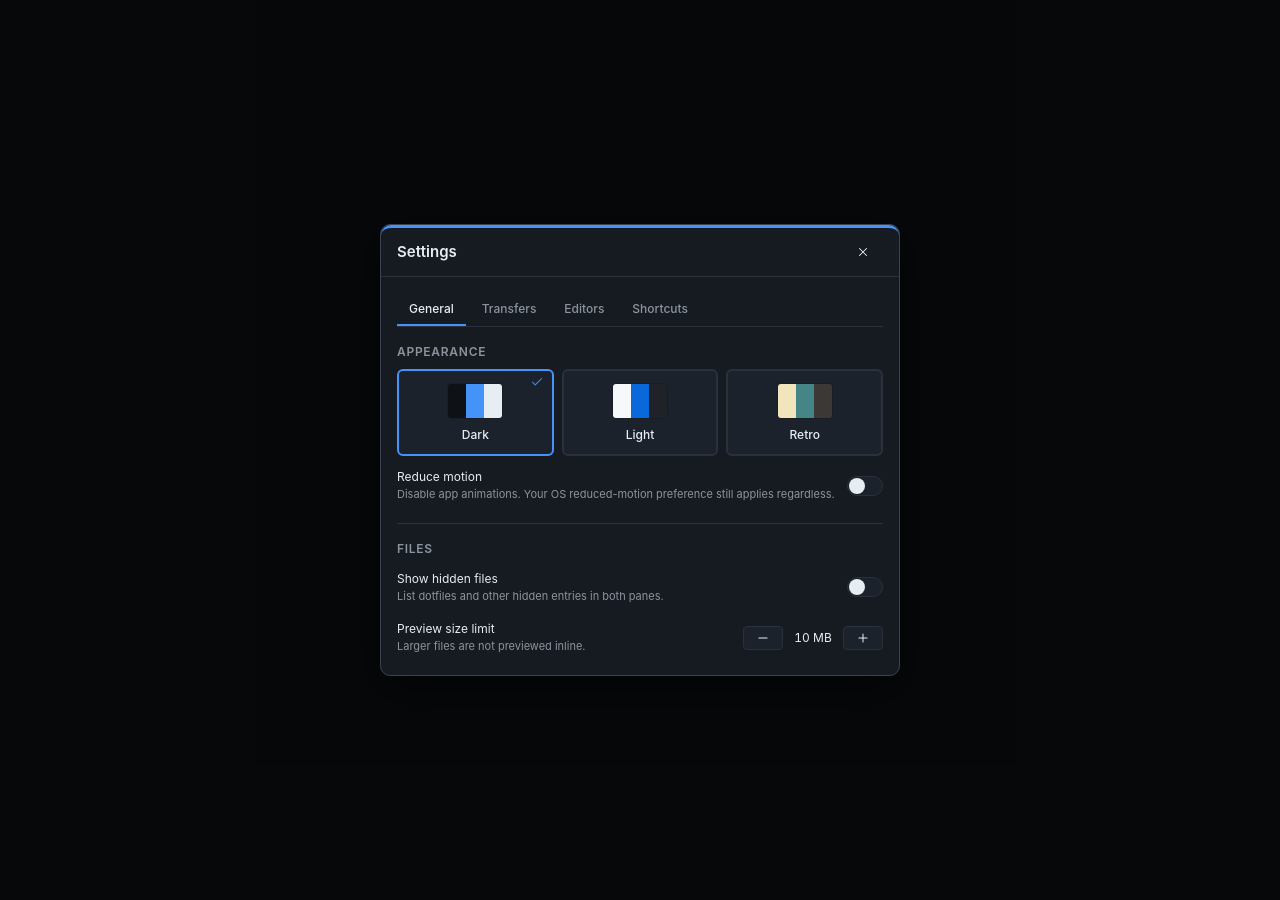
Test: SettingsModal — Transfers tab › loads and steps parallel transfers up to 16
Click the tab "Transfers".
click(509, 310)  # box 470,293 -> 548,326
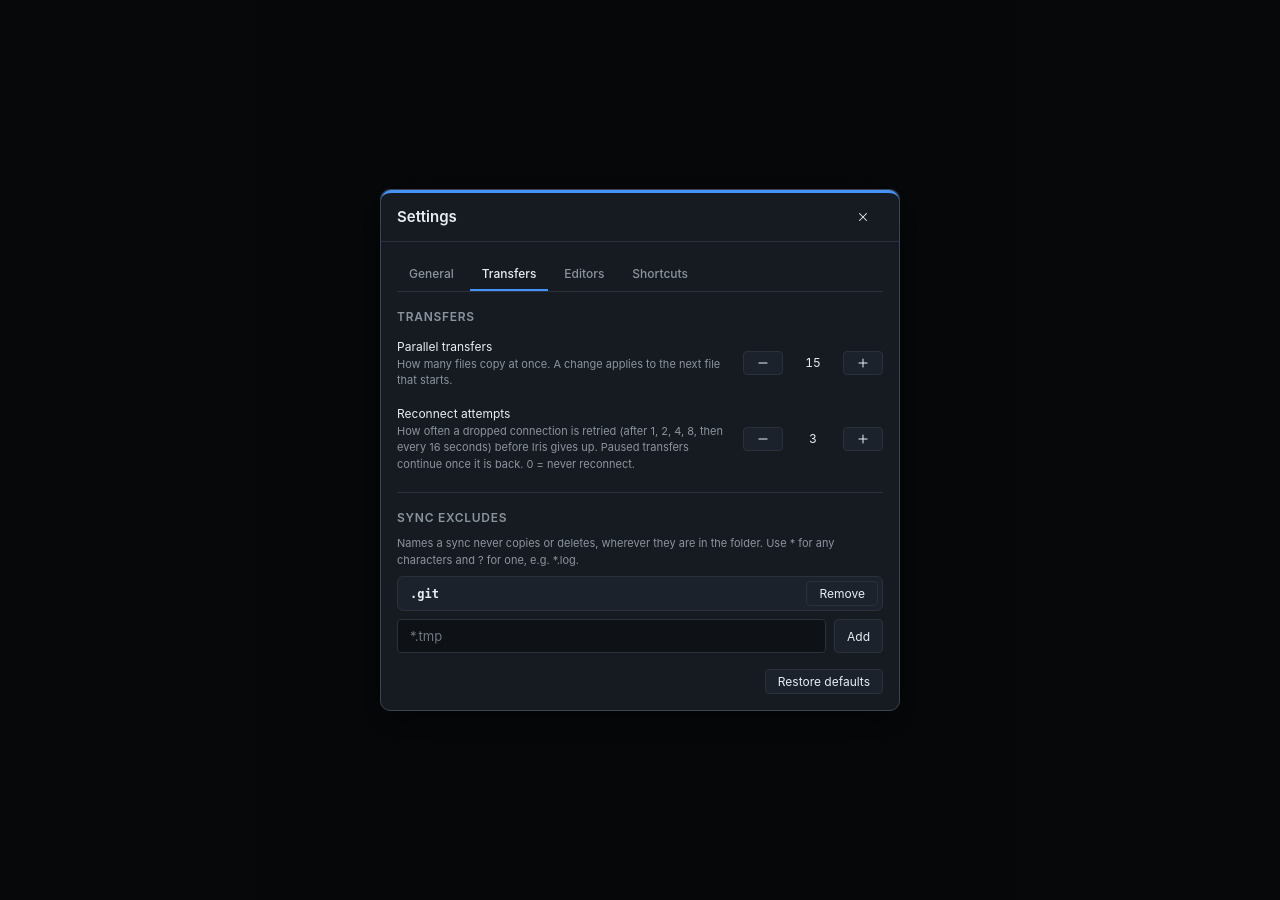
Check: the text named "Parallel transfers" reads "15", box 805,355 -> 821,370
Click the button named "Increase parallel transfers".
click(863, 363)  # box 843,351 -> 883,375
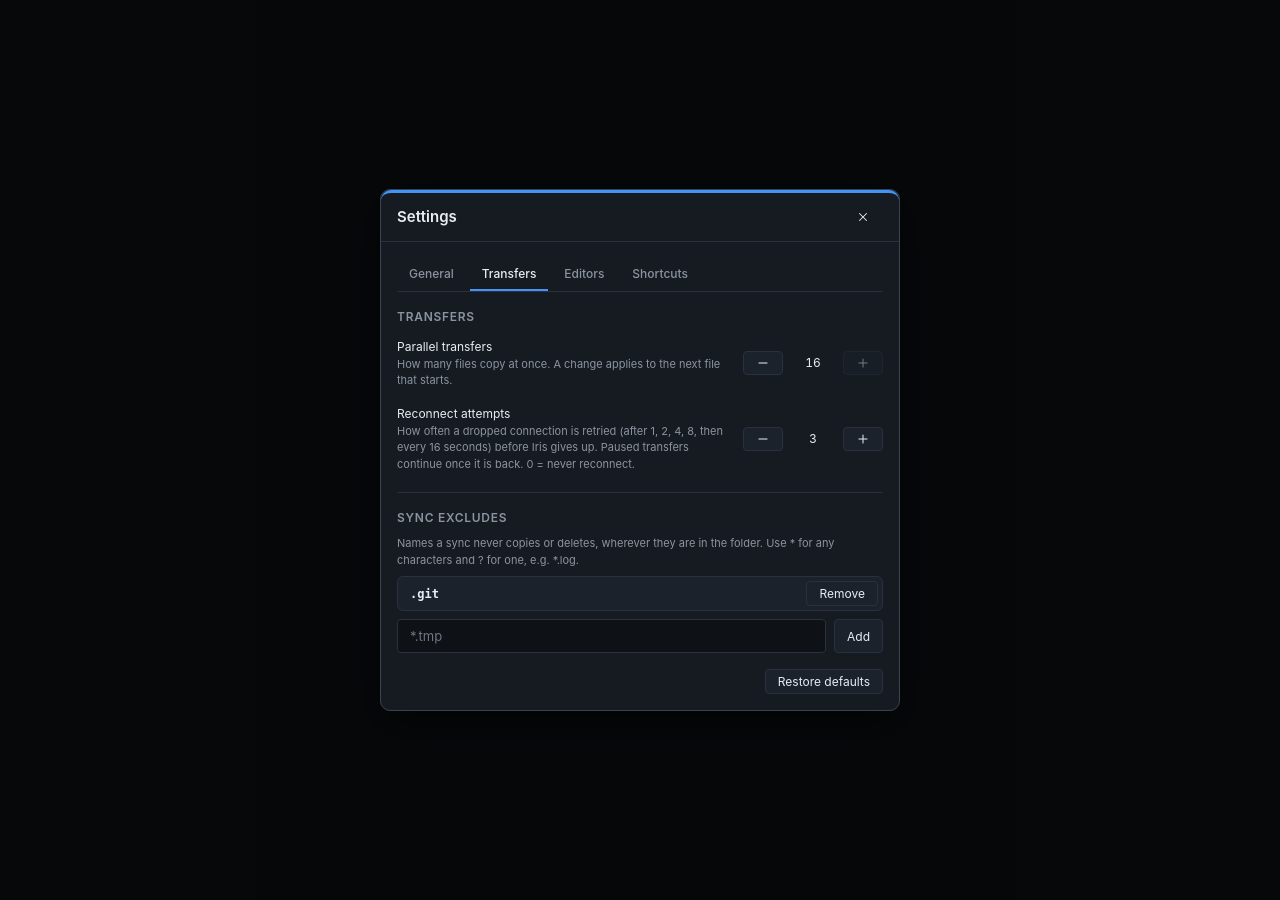
Check: the text named "Parallel transfers" reads "16", box 805,355 -> 821,370
Check: the button named "Increase parallel transfers" is disabled, box 843,351 -> 883,375
